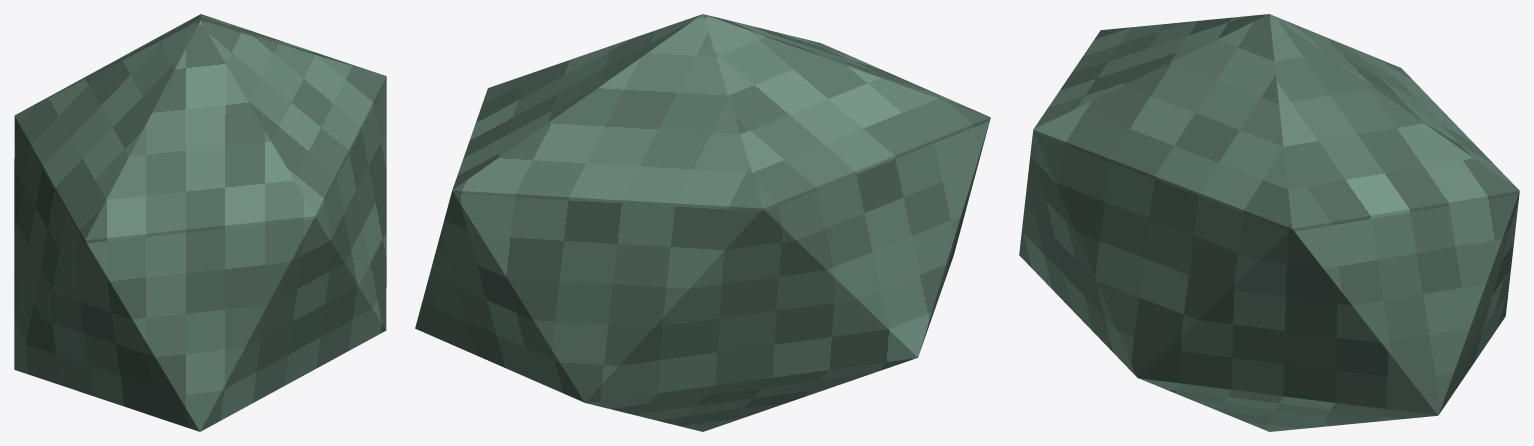
Rendered from rock_02.glb.
3 views of the same model, side by side, from view 1: azimuth 30°, elevation 25°; view 2: azimuth 150°, elevation 25°; view 3: azimuth 270°, elevation 25° (orthographic). The views are drawn at different scales.
Visible parts, largest first — view 1: WeatheredStone; view 2: WeatheredStone; view 3: WeatheredStone.
Boxes of the visible parts, x1,y1,x2,y2 form: WeatheredStone: [14, 14, 386, 431]; WeatheredStone: [415, 14, 990, 431]; WeatheredStone: [1019, 14, 1519, 431].
Bounding box in the file's own units: 1.21 × 1.18 × 1.28.
1 material, 1 textured.
